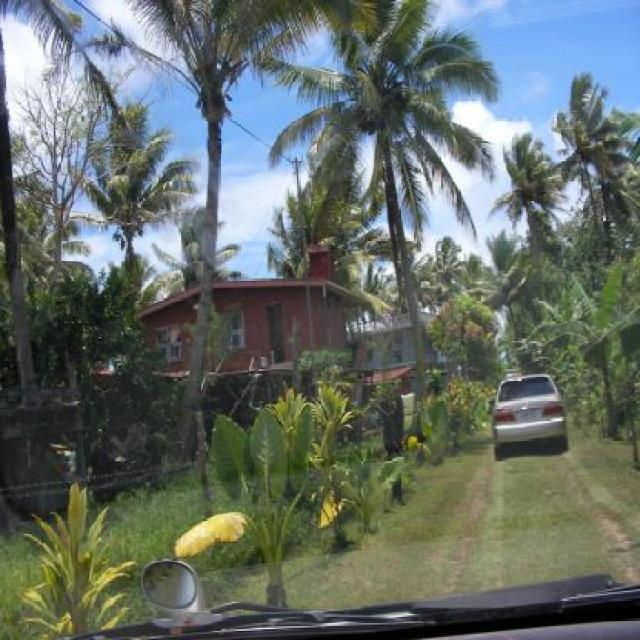Coconut: (353, 76, 404, 136), (112, 222, 143, 250)
